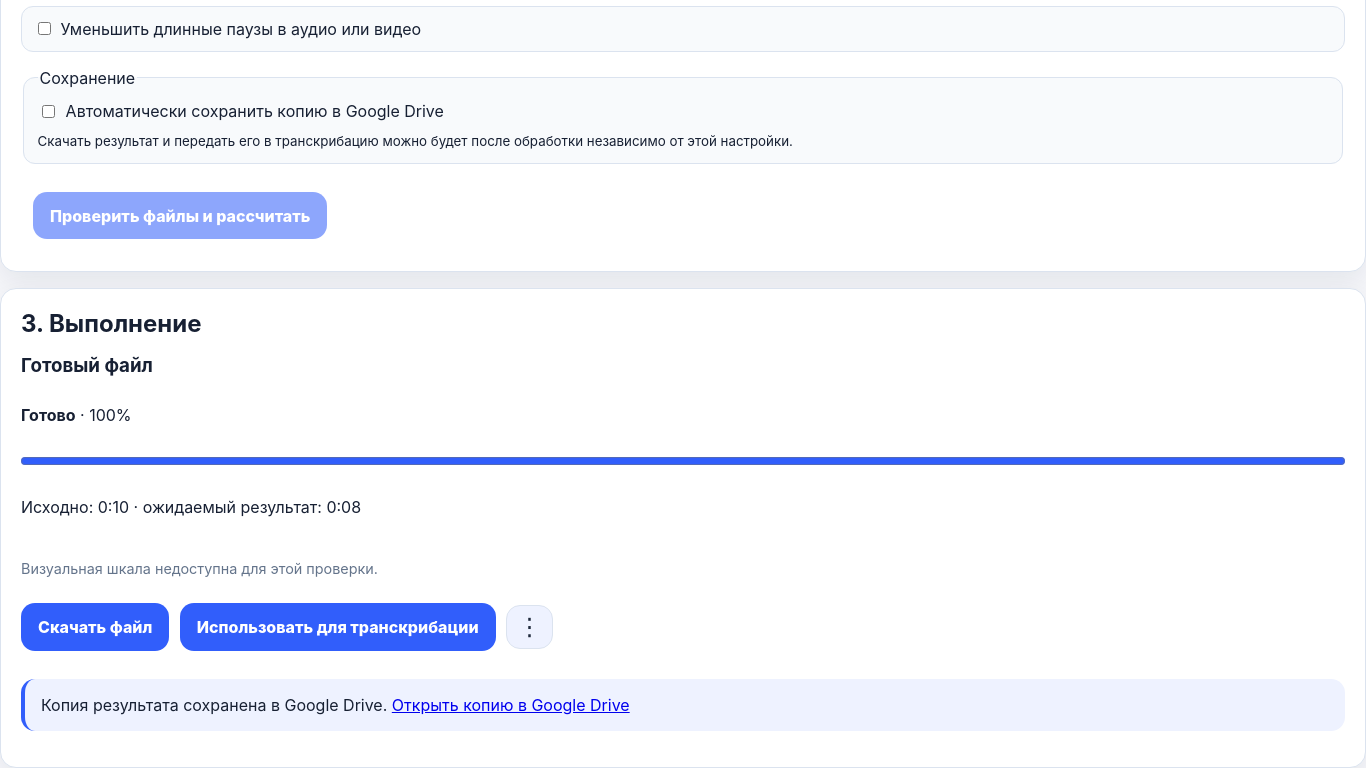
Test: AudioPreparationPage › renders consistent terminal actions and hands the exact output source to transcriptions
The image size is (1366, 768).
(page scrolled)
Click the button "Использовать для транскрибации".
click(338, 627)  # box [180,603,496,651]
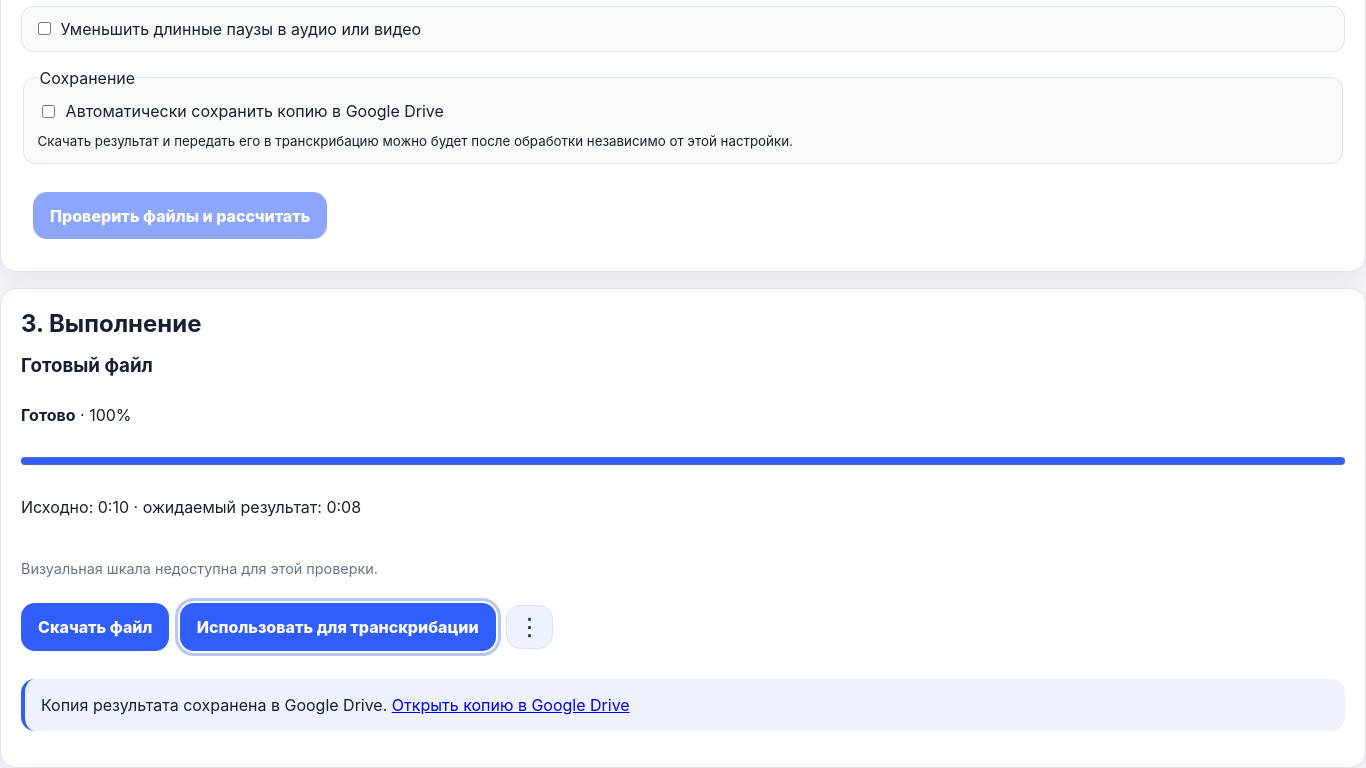
Click the button named "Другие действия: Готовый файл".
click(530, 627)  # box [506,605,553,649]
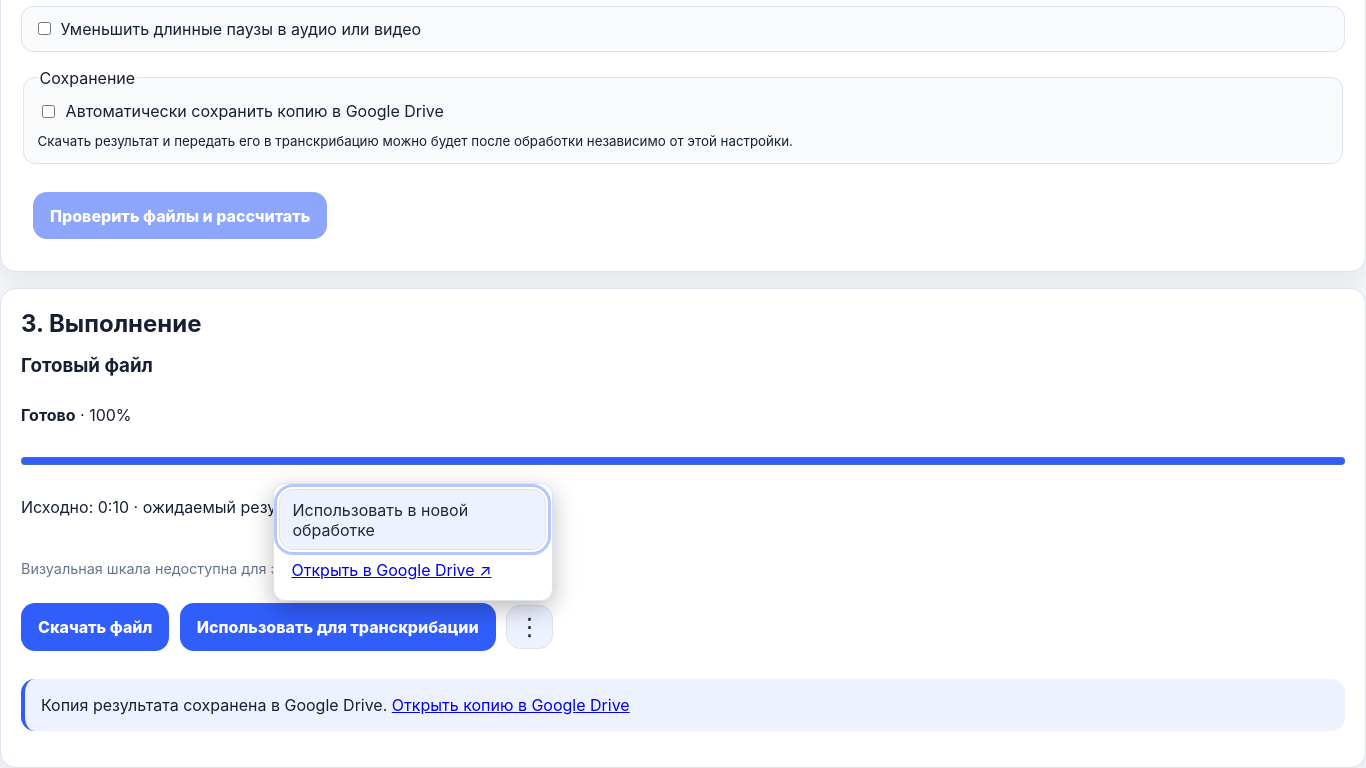
Check: the menu item "Использовать в новой обработке" is shown, box [280,489,546,550]
